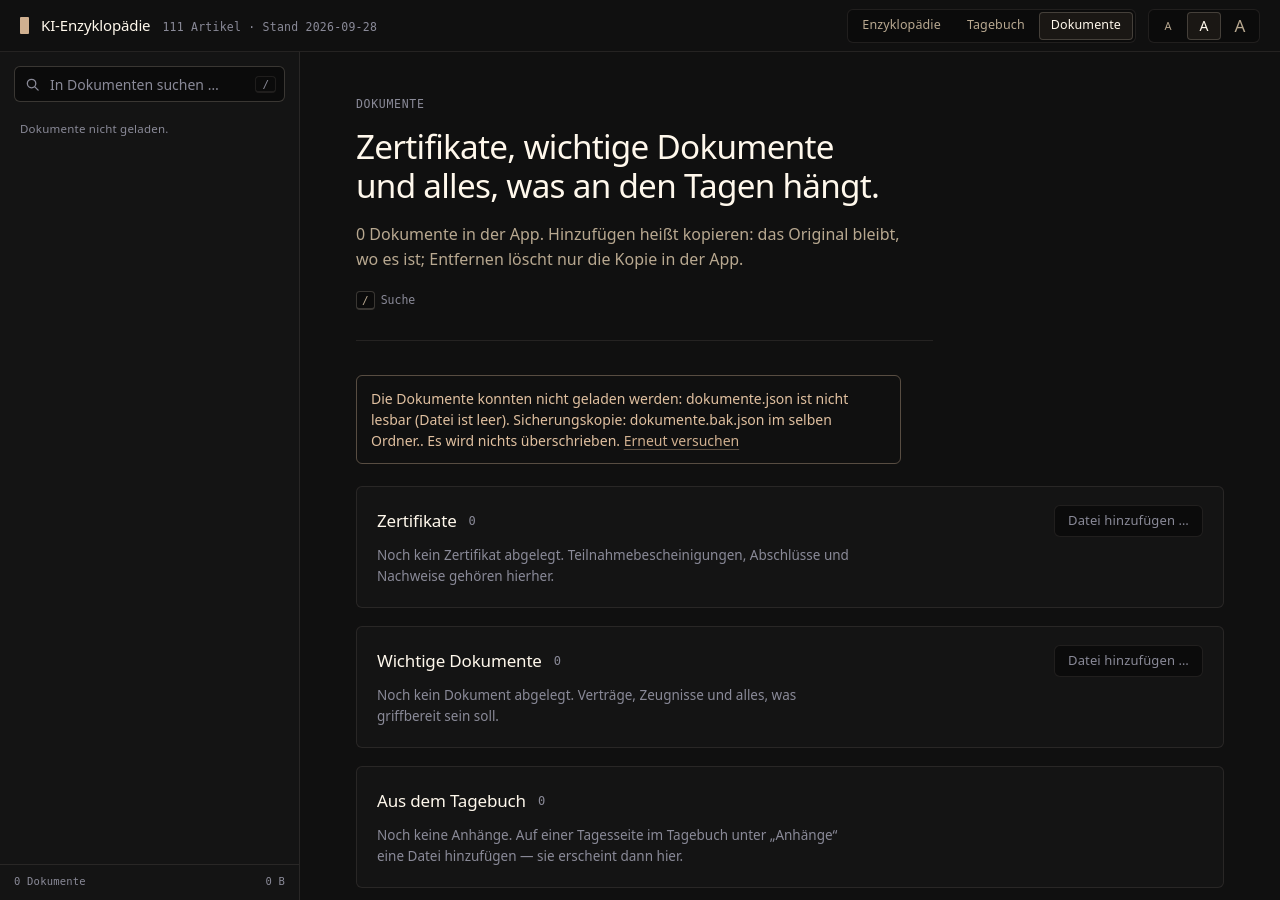
Test: Dokumente › sperrt den Bereich nach einem Ladefehler
Expected: the button with aria-label "Zertifikate: Datei hinzufügen" is disabled, 1054,505 -> 1203,537
Click the button "Erneut versuchen" at point(681, 440), box 624,430 -> 739,451
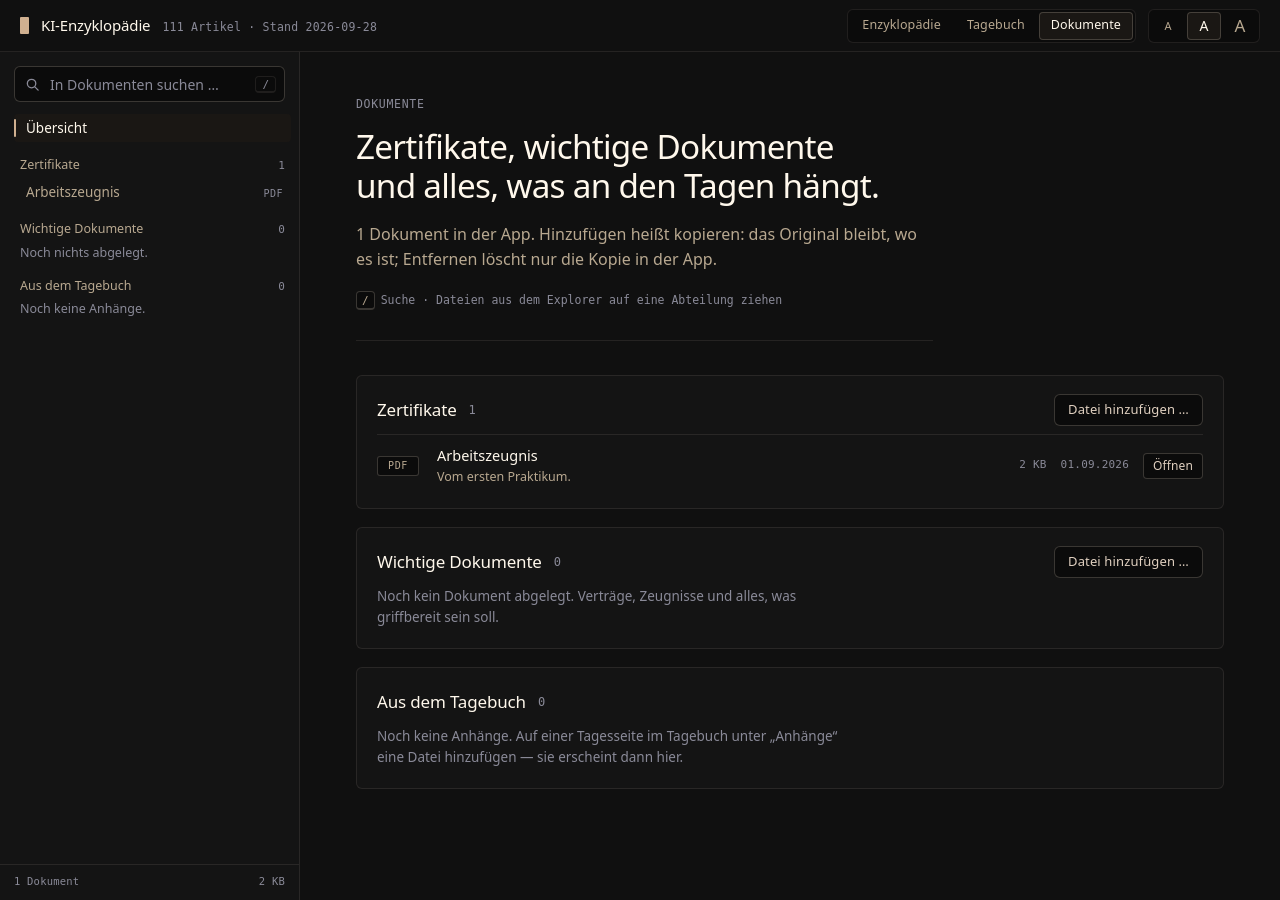
Expected: the link "Arbeitszeugnis" is shown, 433,445 -> 542,467
